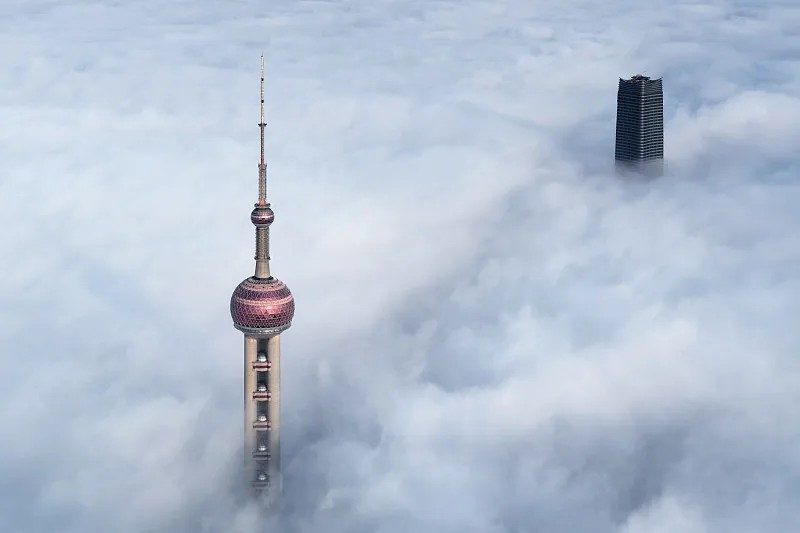Oriental: (230, 53, 295, 490)
